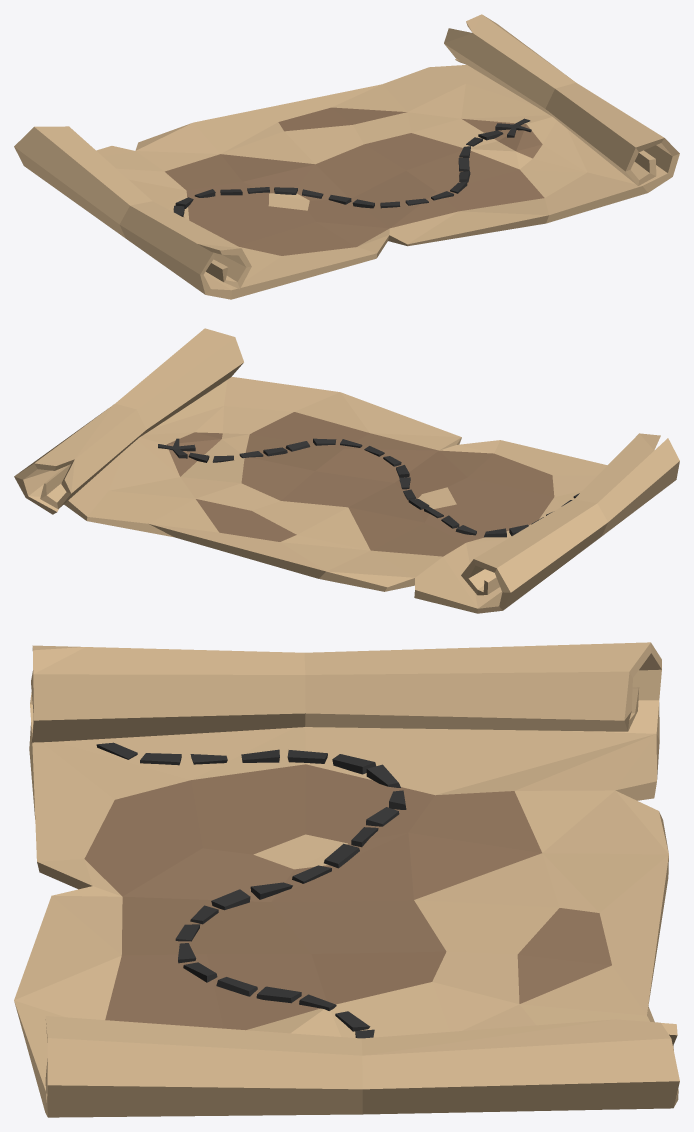
File: Map.fbx
The picture shows the model from 3 angles, top to bottom: view 1: azimuth 30°, elevation 25°; view 2: azimuth 150°, elevation 25°; view 3: azimuth 270°, elevation 25°; orthographic projection. The views are drawn at different scales.
Parts seen in each view (by area): view 1: Map; view 2: Map; view 3: Map.
Boxes of the visible parts, x1,y1,x2,y2 form: Map: (14, 14, 679, 299); Map: (14, 328, 679, 613); Map: (14, 642, 679, 1117).
Bounding box in the file's own units: 2.4 × 0.2378 × 1.59.
